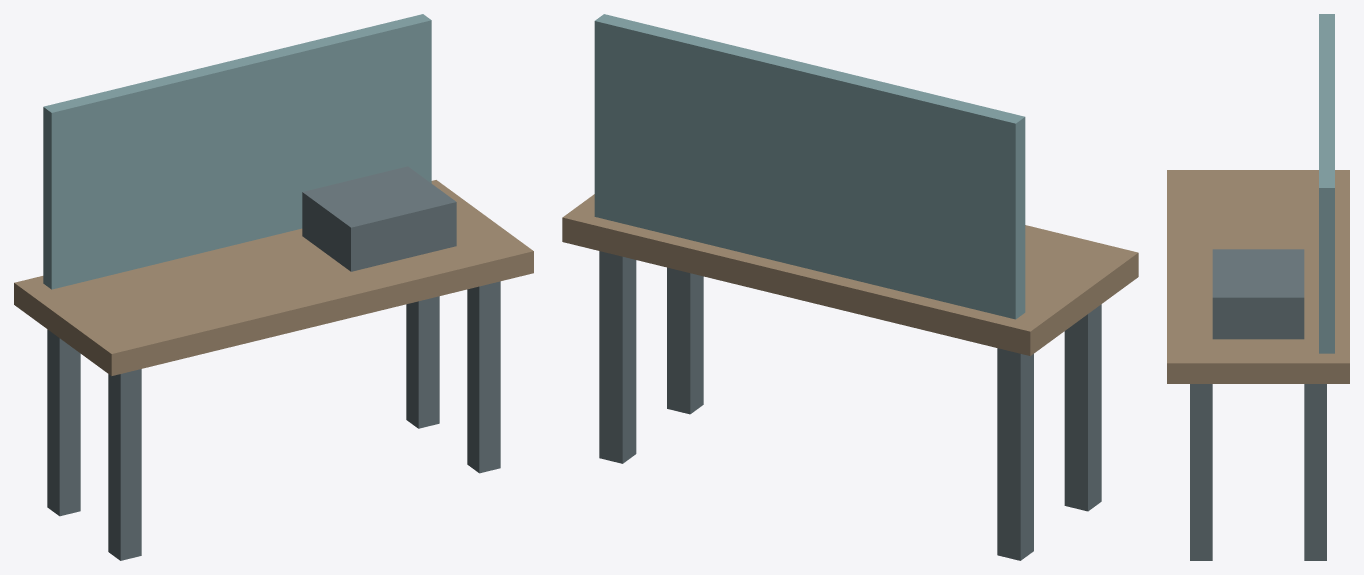
File: zombie-quarantine-streets-document-counter-4e0c335d__19328.glb
The picture shows the model from 3 angles, left to right: view 1: azimuth 30°, elevation 25°; view 2: azimuth 150°, elevation 25°; view 3: azimuth 270°, elevation 25°; orthographic projection. The views are drawn at different scales.
Visible parts, largest first — view 1: document-counter; view 2: document-counter; view 3: document-counter.
Boxes of the visible parts, bbox=[...] form: document-counter: bbox=[14, 14, 533, 560]; document-counter: bbox=[562, 14, 1138, 560]; document-counter: bbox=[1167, 14, 1349, 560].
Size of the model in its own units: 2 by 1.8 by 0.7999.
